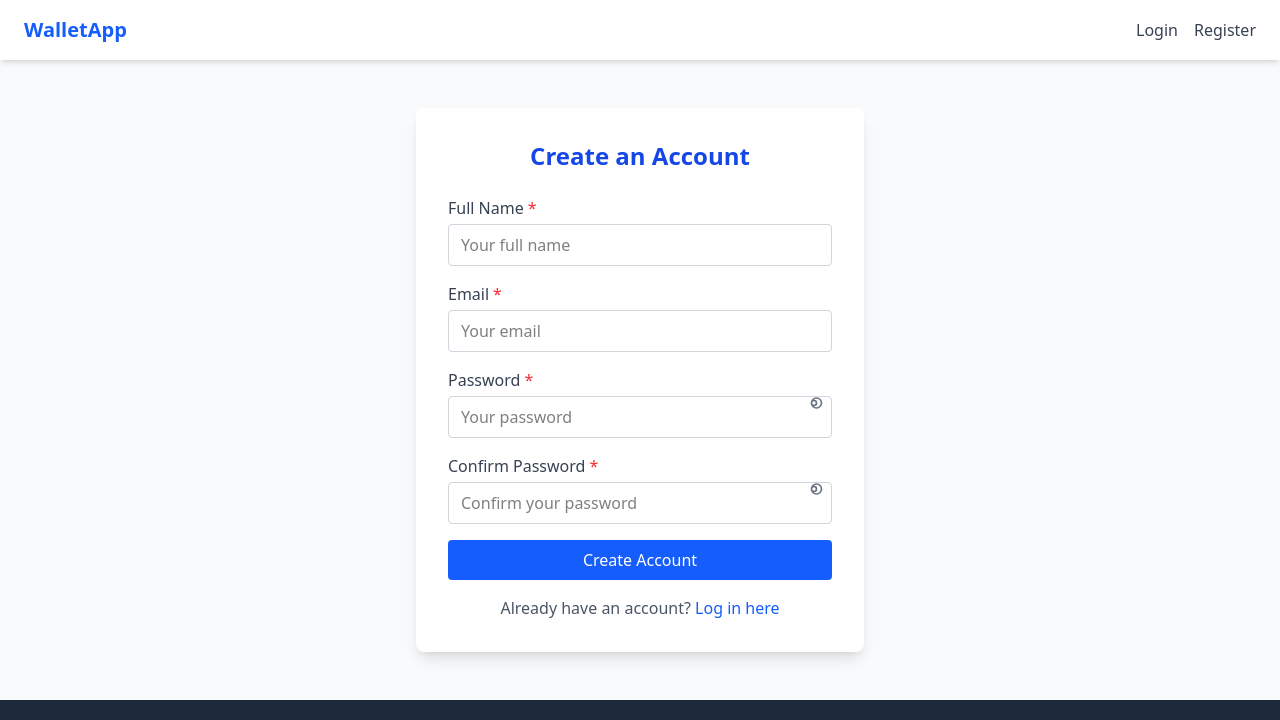
Test: Registro de usuario › valida campos requeridos
Click the button with test id "register-submit": click(640, 560) top-left (448, 540), bottom-right (832, 580)
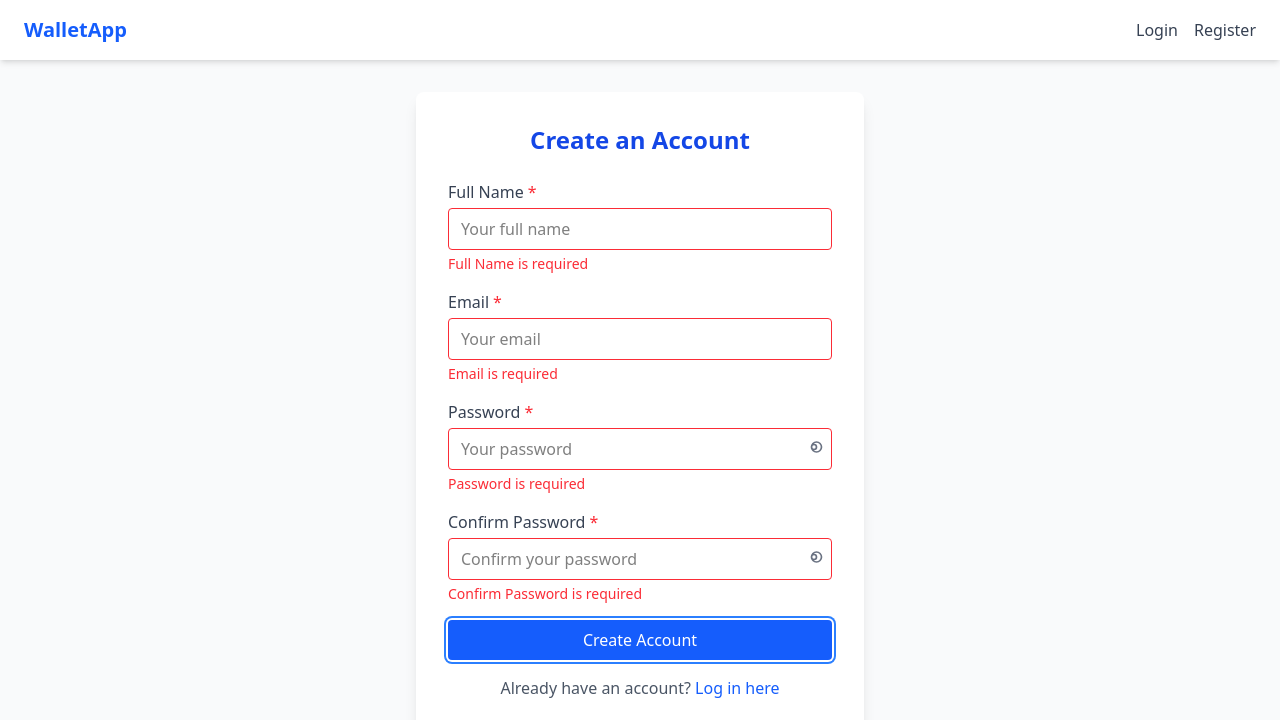
Now the text "Full Name is required" is shown, box top-left (448, 254), bottom-right (588, 273)
Now the text "Email is required" is shown, box top-left (448, 364), bottom-right (558, 383)
Now the text "Password is required" is shown, box top-left (448, 474), bottom-right (585, 493)
